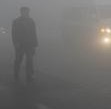person: (8, 5, 43, 84)
